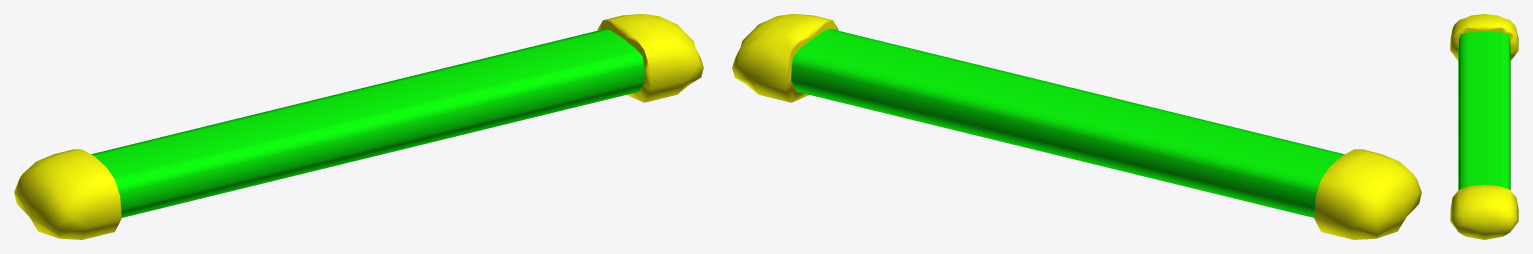
Rendered from néon.fbx.
3 views of the same model, side by side, from view 1: azimuth 30°, elevation 25°; view 2: azimuth 150°, elevation 25°; view 3: azimuth 270°, elevation 25° (orthographic). The views are drawn at different scales.
Visible parts, largest first — view 1: polySurface39, pCube168, pCube167; view 2: polySurface39, pCube168, pCube167; view 3: polySurface39, pCube167, pCube168.
Part boxes in pixels (<box>): polySurface39: <box>91,29,644,217</box>; pCube168: <box>14,149,121,239</box>; pCube167: <box>597,14,703,102</box>; polySurface39: <box>791,29,1344,217</box>; pCube168: <box>1314,149,1421,239</box>; pCube167: <box>732,14,838,102</box>; polySurface39: <box>1458,32,1510,189</box>; pCube167: <box>1450,184,1518,239</box>; pCube168: <box>1450,14,1518,60</box>.
Bounding box in the file's own units: 3.96 × 0.3854 × 0.5765.
